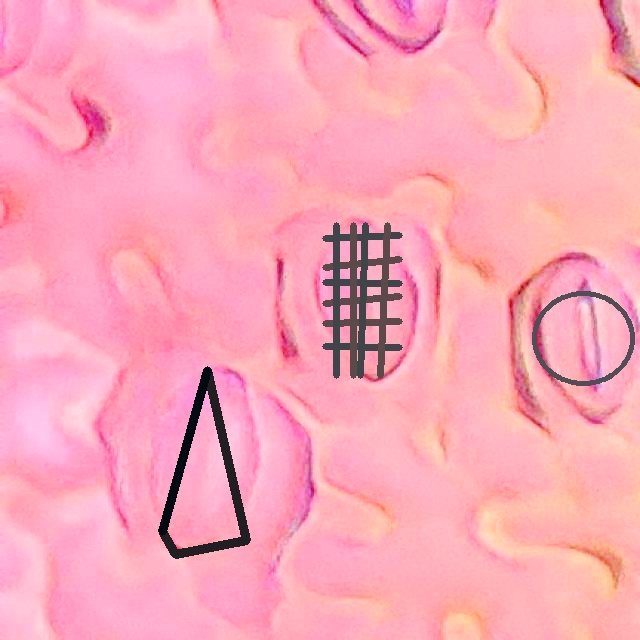close: (158, 366, 250, 558), (322, 222, 402, 378)
open: (531, 291, 635, 385)
